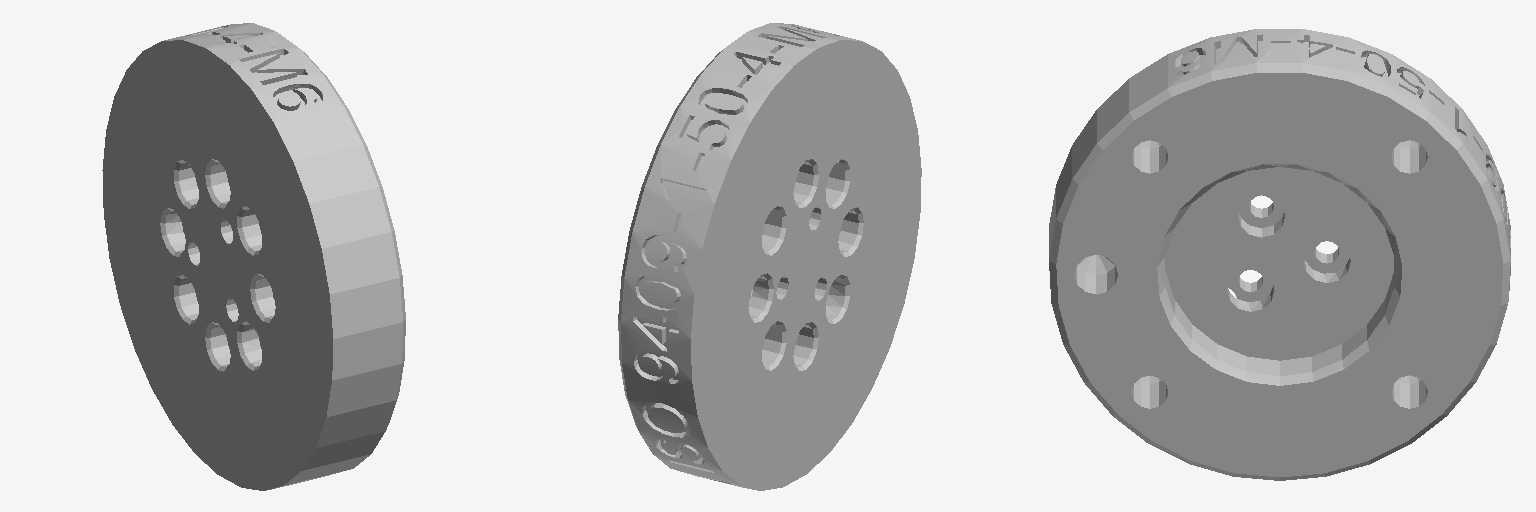
The model's file is hand.obj.
3 renders of one model, left to right at view 1: azimuth 30°, elevation 25°; view 2: azimuth 150°, elevation 25°; view 3: azimuth 270°, elevation 25°, orthographic.
Visible parts, largest first — view 1: Hand2_Hand2.001; view 2: Hand2_Hand2.001; view 3: Hand2_Hand2.001.
Boxes of the visible parts, box(x1,y1,x2,y2) form: Hand2_Hand2.001: box(102, 23, 405, 490); Hand2_Hand2.001: box(618, 23, 921, 490); Hand2_Hand2.001: box(1049, 29, 1510, 480).
Bounding box in the file's own units: 1.2 × 6.3 × 6.3.